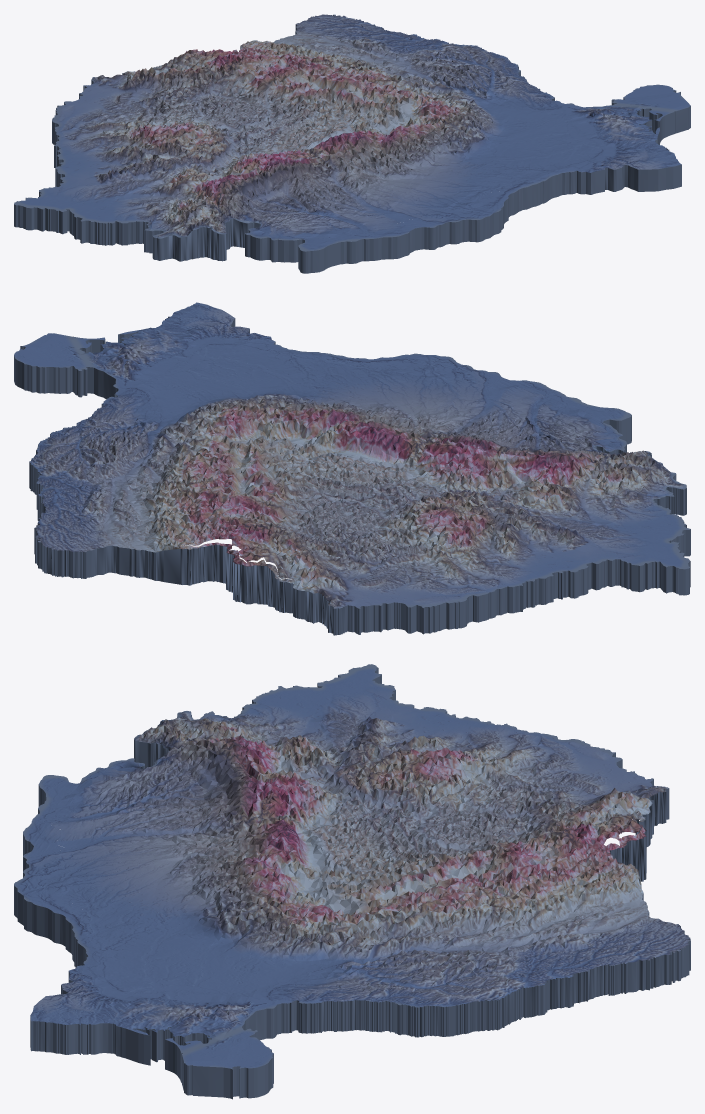
File: romania__high.fbx
3 views of the same model, one above another, from view 1: azimuth 30°, elevation 25°; view 2: azimuth 150°, elevation 25°; view 3: azimuth 270°, elevation 25° (orthographic). The views are drawn at different scales.
Parts seen in each view (by area): view 1: romania__high; view 2: romania__high; view 3: romania__high.
Boxes of the visible parts, x1=… form: romania__high: x1=14, y1=14, x2=690, y2=273; romania__high: x1=14, y1=302, x2=690, y2=635; romania__high: x1=14, y1=664, x2=690, y2=1099.
Bounding box in the file's own units: 84.74 × 59.74 × 5.81.
